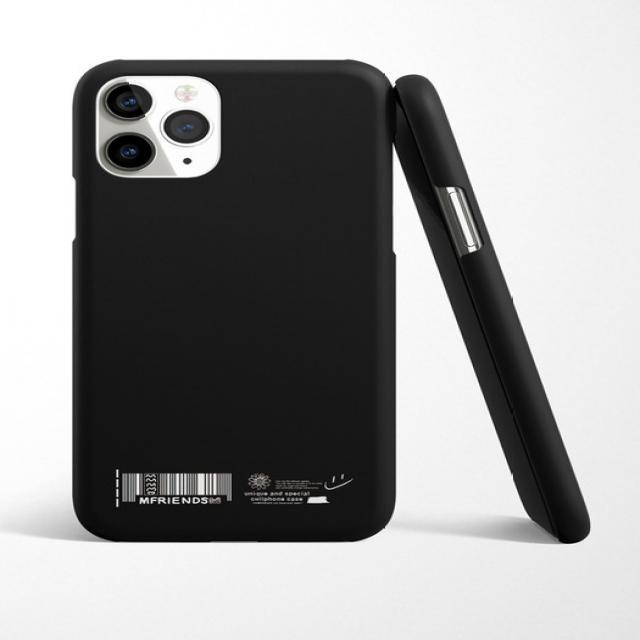phone: (70, 59, 398, 542)
